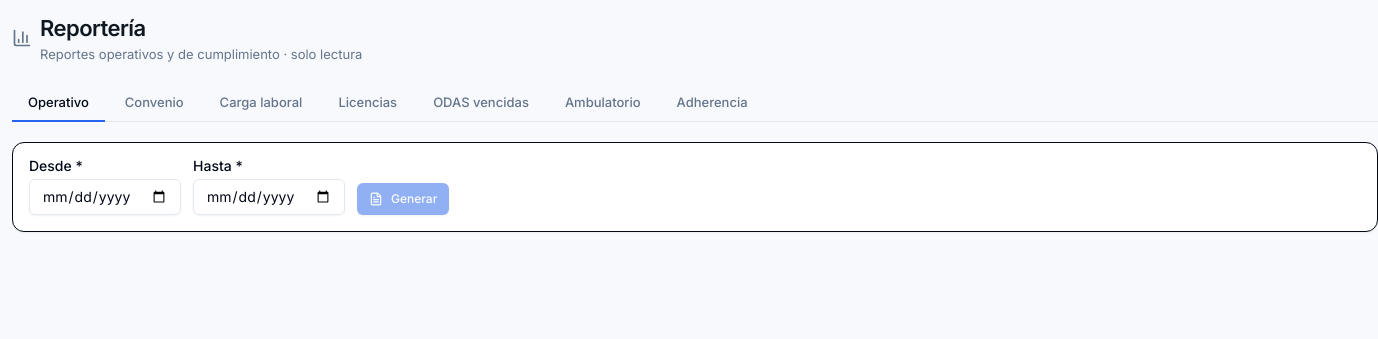
Test: ReportesPage — Licencias muestra el folio real › la columna Folio usa el folio y no el id interno
This screenshot has width=1378, height=339.
Click the button with test id "tab-licencias" at (368, 103), box [322,84,413,122]
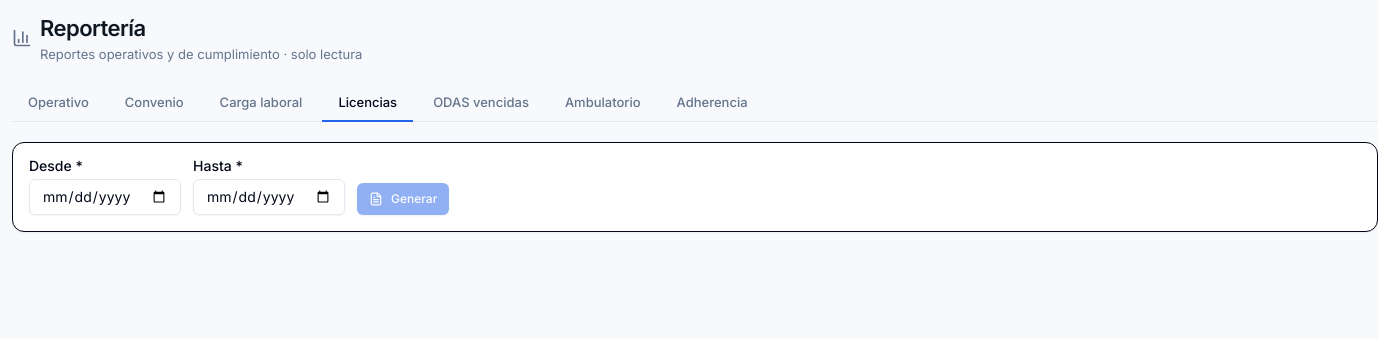
Type "2026-01-01" into the date field with id "r-desde" at (105, 197), box [29,179,181,215]
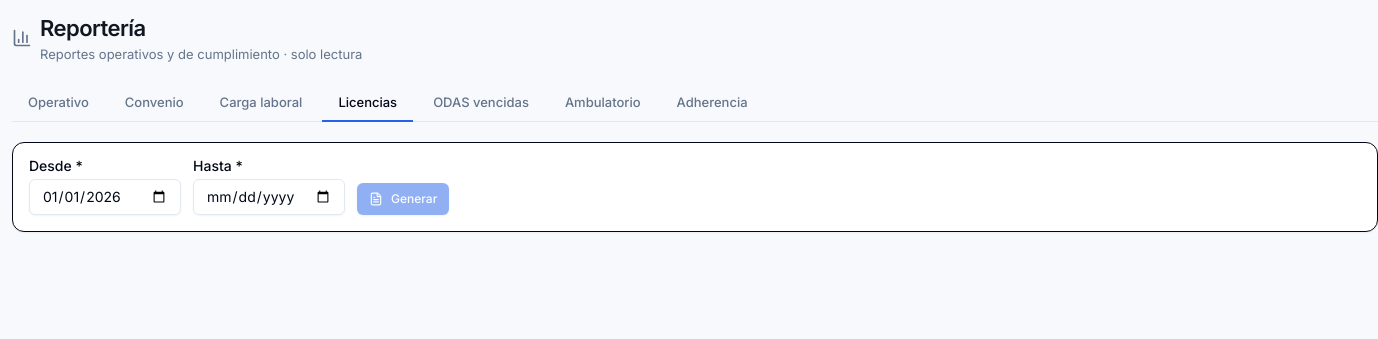
Type "2026-12-31" into the date field with id "r-hasta" at (269, 197), box [193,179,345,215]
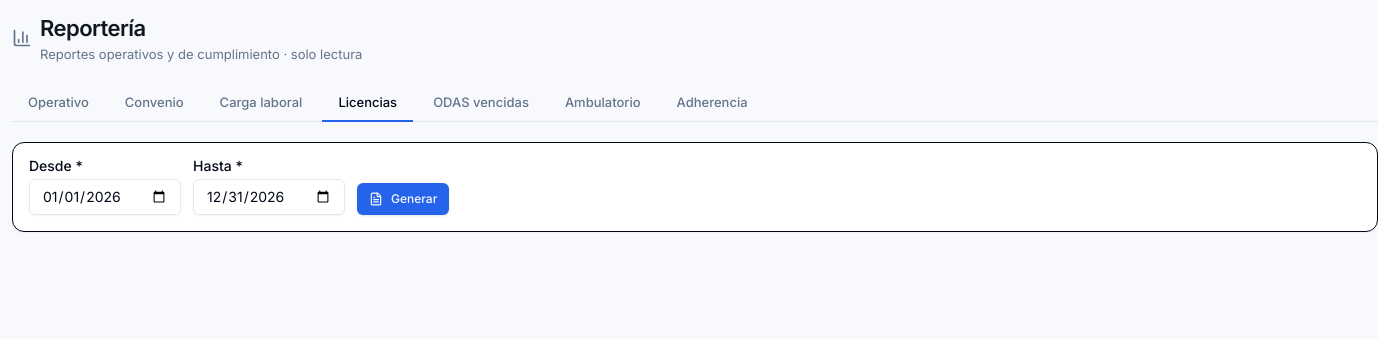
Click the button with test id "btn-generar-reporte" at (403, 199), box [357,183,449,215]
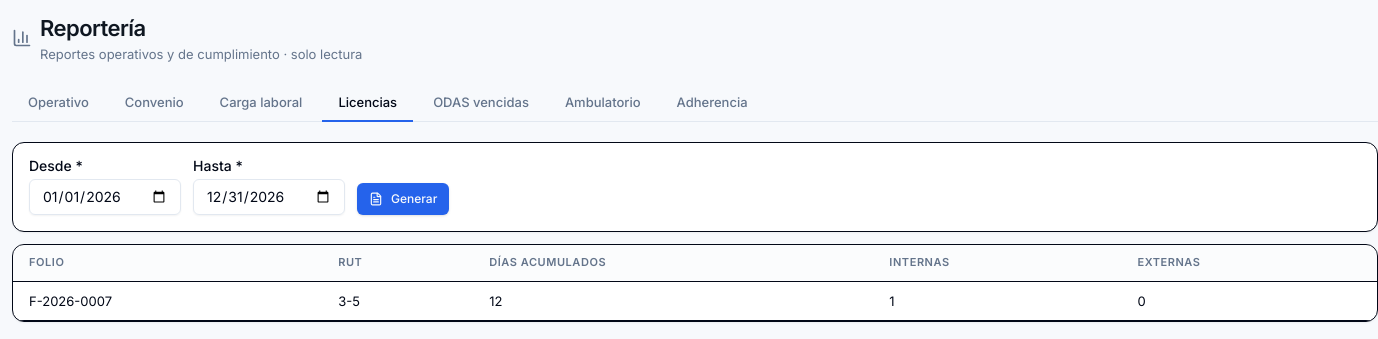
Now the text "F-2026-0007" is shown, box [13,281,322,321]
